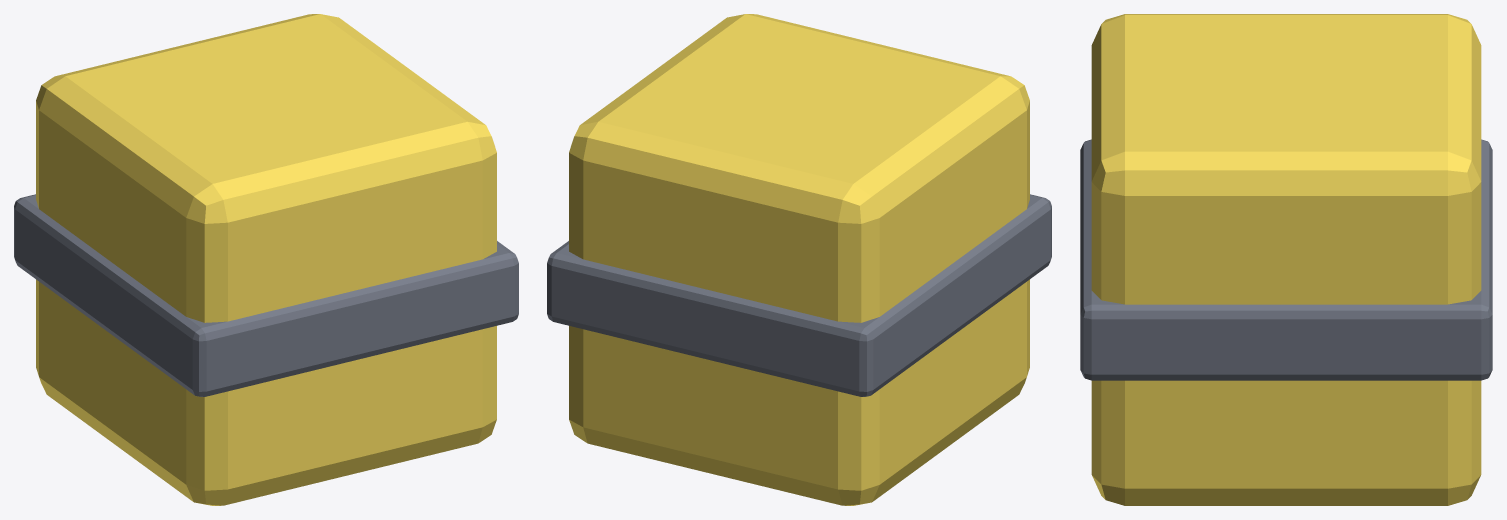
The model's file is GoldBlock.fbx.
3 views of the same model, side by side, from view 1: azimuth 30°, elevation 25°; view 2: azimuth 150°, elevation 25°; view 3: azimuth 270°, elevation 25° (orthographic). The views are drawn at different scales.
Parts seen in each view (by area): view 1: MainMesh; view 2: MainMesh; view 3: MainMesh.
Part boxes in pixels (bbox=[...]): MainMesh: bbox=[14, 14, 518, 505]; MainMesh: bbox=[547, 14, 1051, 505]; MainMesh: bbox=[1080, 14, 1492, 505].
Bounding box in the file's own units: 1.48 × 1.4 × 1.48.
